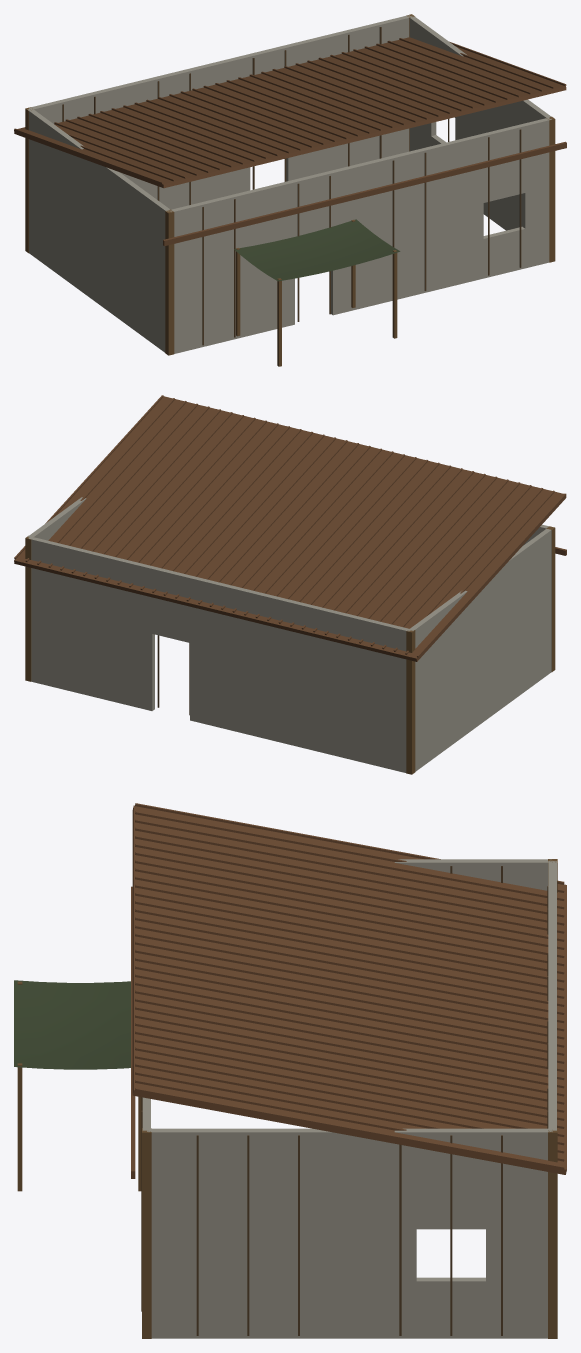
File: bldg_white_warehouse.glb
The picture shows the model from 3 angles, top to bottom: view 1: azimuth 30°, elevation 25°; view 2: azimuth 150°, elevation 25°; view 3: azimuth 270°, elevation 25°; orthographic projection. The views are drawn at different scales.
Parts seen in each view (by area): view 1: WallPanel_Finished (×12), RoofDeck, RoofPanel_Sloped, CamoNetSheet, CornerPost (×3), CamoNetAwning; view 2: WallPanel_Finished (×7), RoofDeck, RoofPanel_Sloped, CornerPost (×3); view 3: RoofDeck, WallPanel_Finished (×6), RoofPanel_Sloped, CamoNetSheet, CornerPost (×2), CamoNetAwning.
Boxes of the visible parts, x1=… form: WallPanel_Finished (×12): x1=27, y1=15, x2=551, y2=353; RoofDeck: x1=14, y1=37, x2=566, y2=188; RoofPanel_Sloped: x1=14, y1=38, x2=566, y2=246; CamoNetSheet: x1=234, y1=219, x2=400, y2=281; CornerPost (×3): x1=25, y1=107, x2=555, y2=355; CamoNetAwning: x1=236, y1=219, x2=397, y2=366; WallPanel_Finished (×7): x1=27, y1=497, x2=551, y2=772; RoofDeck: x1=14, y1=396, x2=566, y2=661; RoofPanel_Sloped: x1=14, y1=395, x2=566, y2=657; CornerPost (×3): x1=25, y1=526, x2=555, y2=774; RoofDeck: x1=132, y1=805, x2=566, y2=1174; WallPanel_Finished (×6): x1=147, y1=859, x2=556, y2=1338; RoofPanel_Sloped: x1=131, y1=803, x2=564, y2=1178; CamoNetSheet: x1=14, y1=980, x2=130, y2=1069; CornerPost (×2): x1=142, y1=1128, x2=557, y2=1338; CamoNetAwning: x1=17, y1=981, x2=141, y2=1191.
Bounding box in the file's own units: 11.2 × 4.68 × 9.16.
